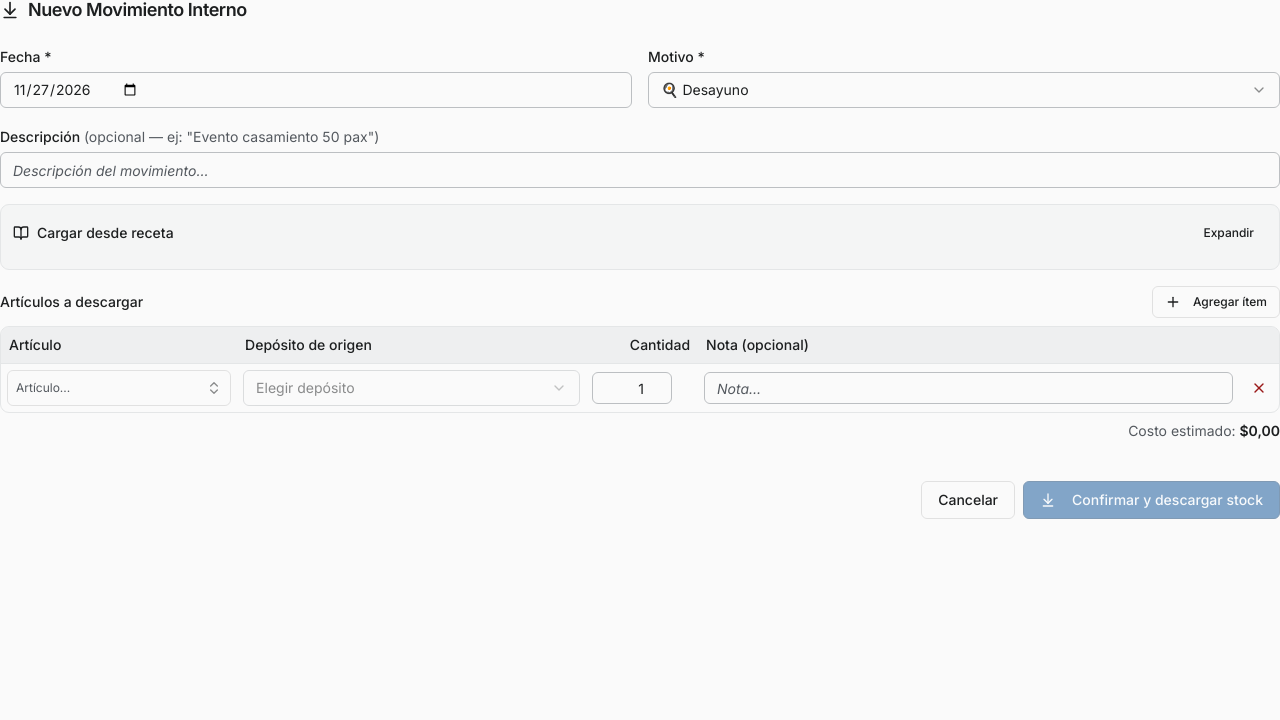
muestra el último destino y permite cambiarlo explícitamente
Click the dropdown with test id "select-im-item-0" at (119, 388), box [7,370,231,406]
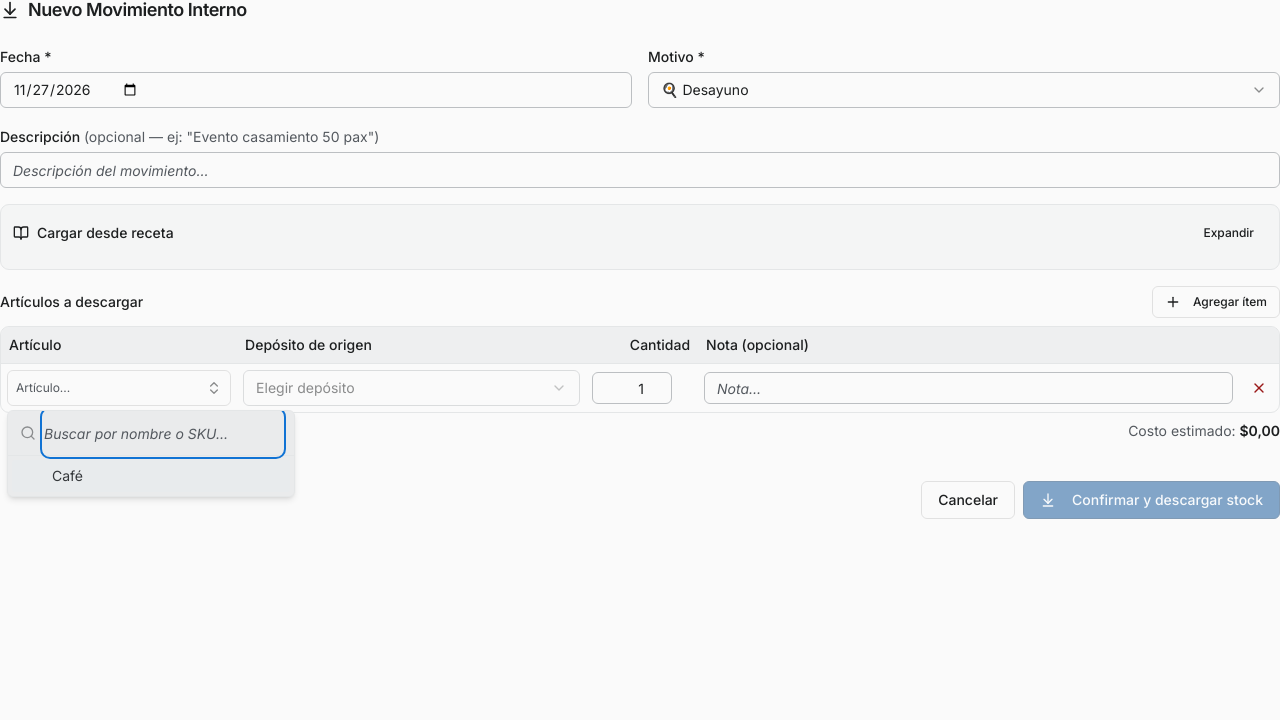
Click the option "Café" at (68, 476), box [12,460,290,492]
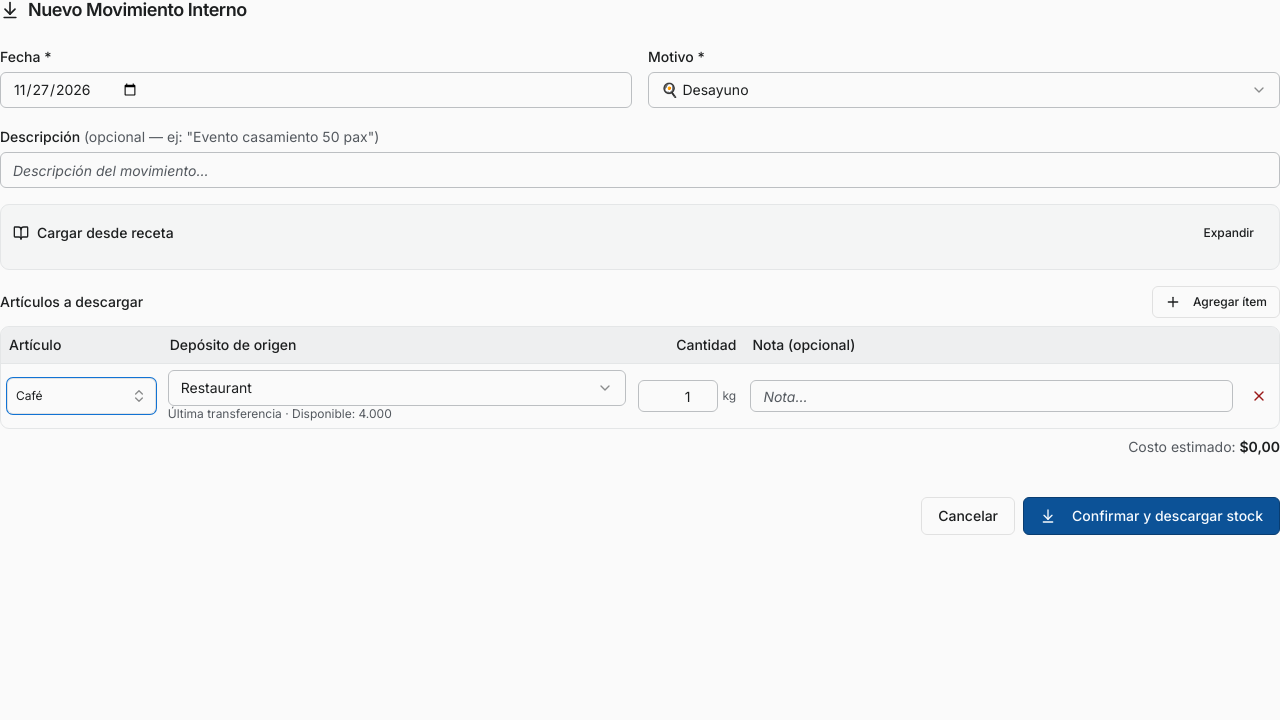
Now the dropdown with test id "select-im-warehouse-0" reads "Restaurant"
Now the text "Última transferencia · Disponible: 4.000" is shown, box [168,406,392,421]
Now the button with test id "btn-confirm-internal-mov" is enabled, box [1023,497,1279,535]
Click the dropdown with test id "select-im-warehouse-0" at (216, 388), box [168,370,626,406]
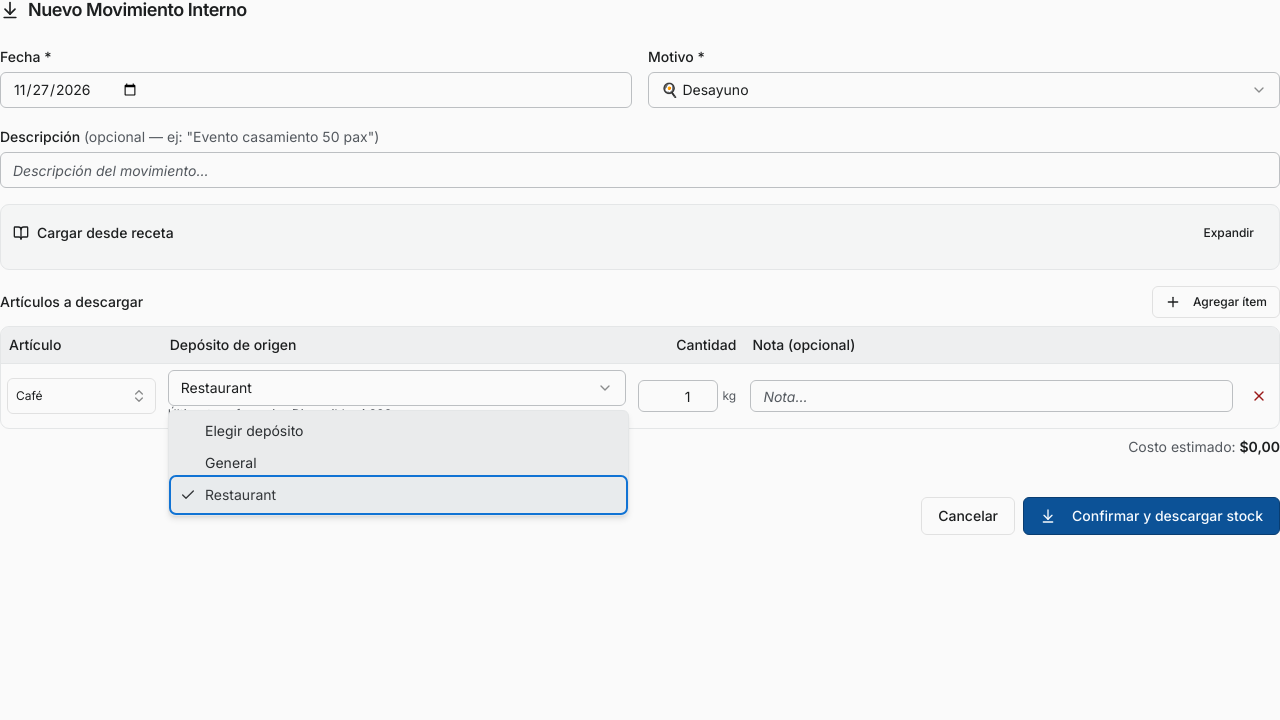
Click the option "General" at (231, 462), box [205,454,257,471]
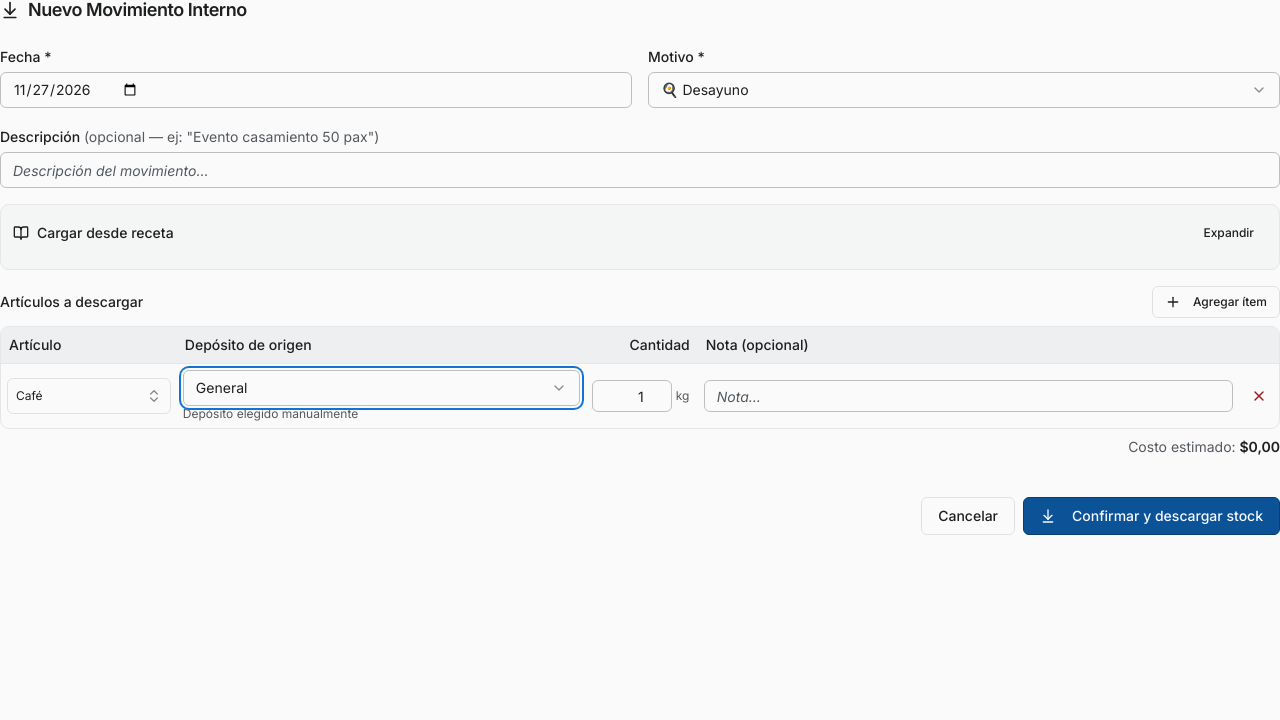
Now the dropdown with test id "select-im-warehouse-0" reads "General", box [183,370,580,406]
Now the text "Depósito elegido manualmente" is shown, box [183,406,358,421]
